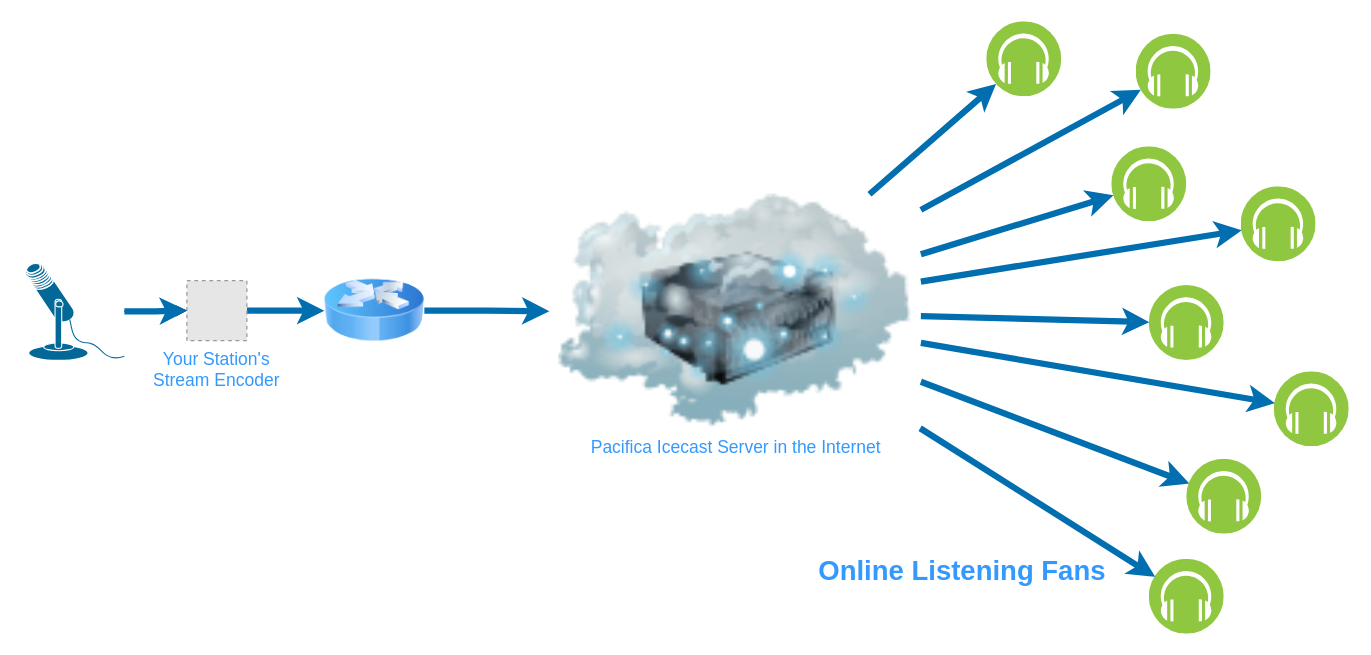
The diagram is 1371 pixels wide and 655 high, and some of its shapes have lost their labels. Grey dashed boxes stand in for pictures. The shapes that lost their labels are listed below. From the top down, each one's box as (x1, y1, x2, y2) in pixels, then its label:
(22, 260, 125, 361): Your Station's Audio
(324, 260, 424, 360): Your Studio Internet Router
